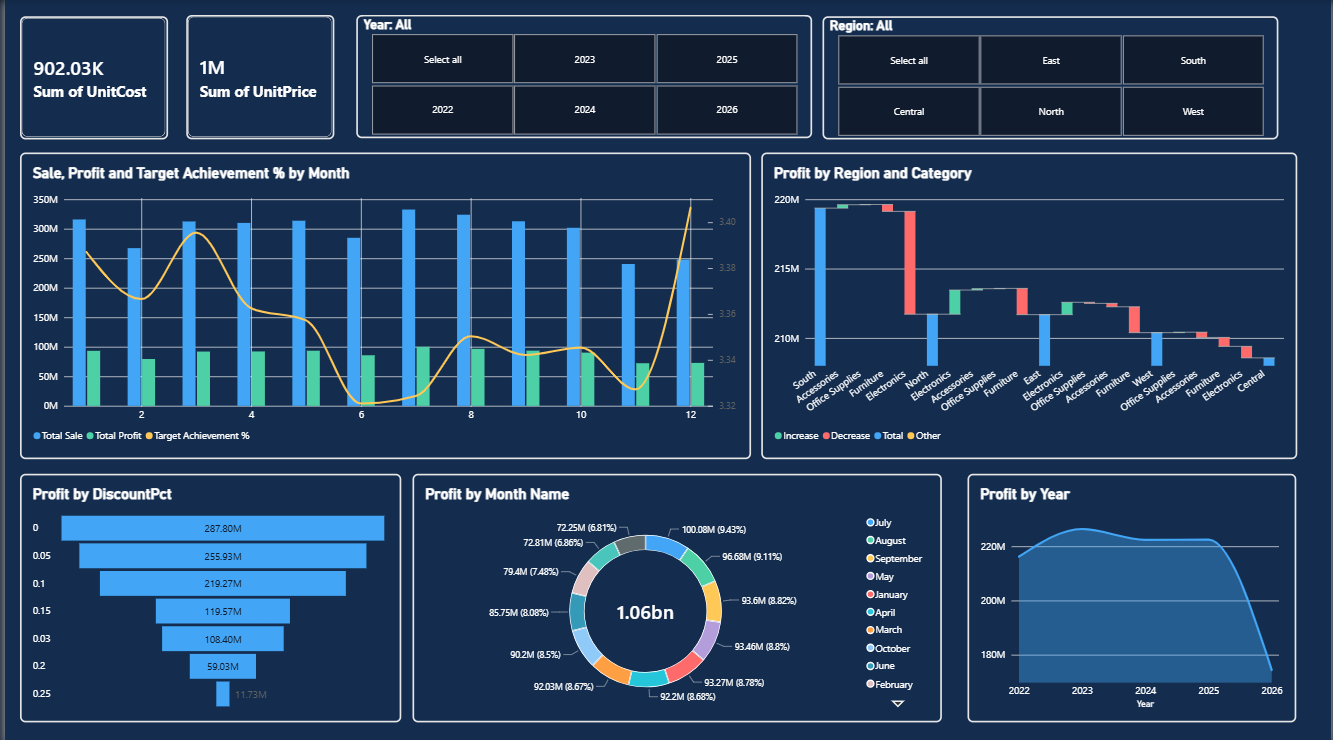

The dashboard page shown, as its layout file describes it:
{"tool":"powerbi","page":{"name":"Sales Trends & Performance Insights","canvas":[1920,1080],"ordinal":2},"visuals":[{"type":"lineClusteredColumnComboChart","title":"Sale, Profit and Target Achievement % by Month","fields":{"Category":["targets.Month"],"Y":["customers.Total Sale","customers.Total Profit"],"Y2":["customers.Target Achievement %"]},"box":[22,220,1058,444],"z":0},{"type":"funnel","title":"Profit by DiscountPct","fields":{"Category":["sales.DiscountPct"],"Y":["customers.Total Profit"]},"box":[22,686,552,360],"z":1000},{"type":"areaChart","title":"Profit by Year","fields":{"Category":["targets.Year"],"Y":["Sum(sales.Profit)"]},"box":[1394,686,476,360],"z":2000},{"type":"donutChart","title":"Profit by Month Name","fields":{"Category":["targets.Month Name"],"Y":["Sum(sales.Profit)"]},"box":[590,686,766,360],"z":3000},{"type":"waterfallChart","title":"Profit by Region and Category","fields":{"Breakdown":["products.Category"],"Category":["sales.Region"],"Y":["Sum(sales.Profit)"]},"box":[1094,220,776,444],"z":4000},{"type":"cardVisual","fields":{"Data":["Sum(products.UnitCost)"]},"box":[22,24,214,178],"z":5000},{"type":"cardVisual","fields":{"Data":["Sum(products.UnitPrice)"]},"box":[262,22,214,180],"z":6000},{"type":"slicer","fields":{"Values":["targets.Year"]},"box":[508,22,660,178],"z":7000},{"type":"slicer","fields":{"Values":["targets.Region"]},"box":[1184,24,660,178],"z":8000}]}

Visuals, with their boxes in screenshot pixels (x1, y1, x2, y2), scaled from the page's 1920x1080 canvas onto the 1333x740 screenshot:
"Sale, Profit and Target Achievement % by Month" lineClusteredColumnComboChart: 15, 151, 750, 455
"Profit by DiscountPct" funnel: 15, 470, 399, 717
"Profit by Year" areaChart: 968, 470, 1298, 717
"Profit by Month Name" donutChart: 410, 470, 941, 717
"Profit by Region and Category" waterfallChart: 760, 151, 1298, 455
cardVisual - Sum(products.UnitCost): 15, 16, 164, 138
cardVisual - Sum(products.UnitPrice): 182, 15, 330, 138
slicer - targets.Year: 353, 15, 811, 137
slicer - targets.Region: 822, 16, 1280, 138
